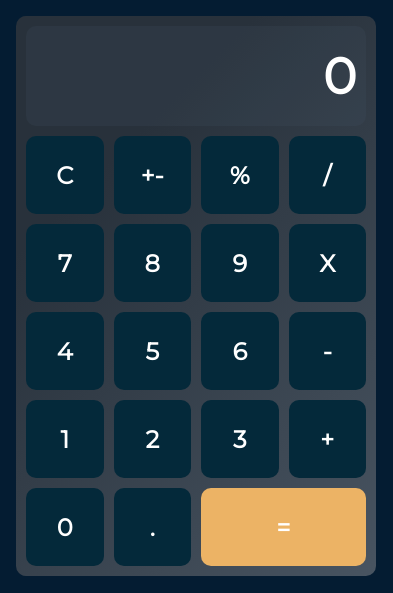
it: check if display is updating upon clicking buttons
Click the button "1".
click(65, 439)  # box [26,400,104,478]
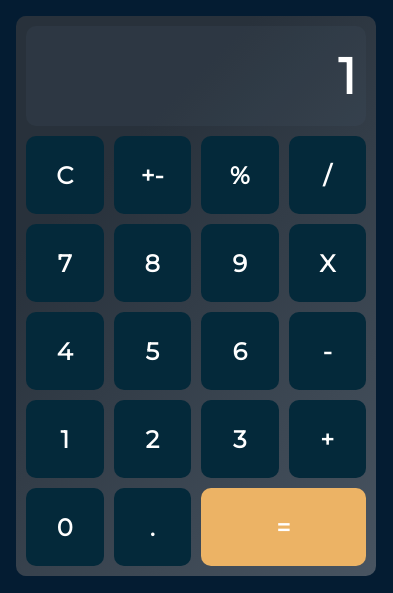
Expected: the text titled "screen" reads "1", [338,46,356,106]
